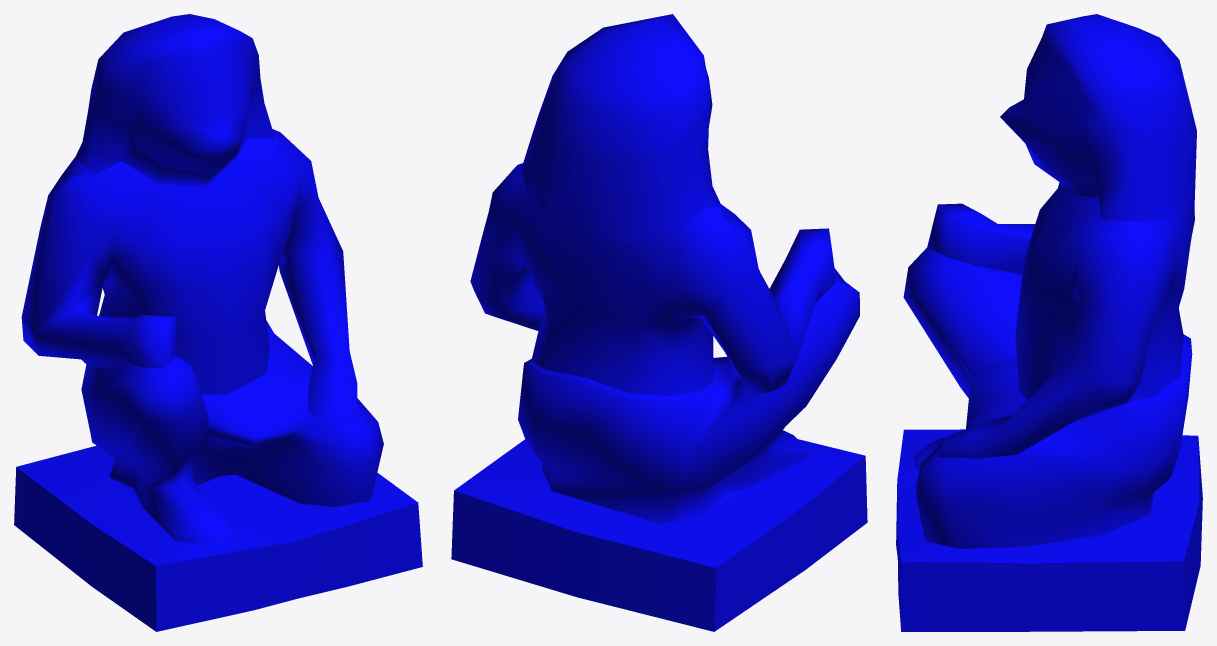
File: Prop_CamodianDemonStatue3_01.FBX
The picture shows the model from 3 angles, left to right: view 1: azimuth 30°, elevation 25°; view 2: azimuth 150°, elevation 25°; view 3: azimuth 270°, elevation 25°; orthographic projection. The views are drawn at different scales.
Visible parts, largest first — view 1: Prop_CamodianDemonStatue3_01; view 2: Prop_CamodianDemonStatue3_01; view 3: Prop_CamodianDemonStatue3_01.
Part boxes in pixels (left/top/right/bottom): Prop_CamodianDemonStatue3_01: left=14, top=14, right=422, bottom=631; Prop_CamodianDemonStatue3_01: left=451, top=14, right=867, bottom=631; Prop_CamodianDemonStatue3_01: left=896, top=14, right=1202, bottom=631.
Bounding box in the file's own units: 57.43 × 92.69 × 48.23.
